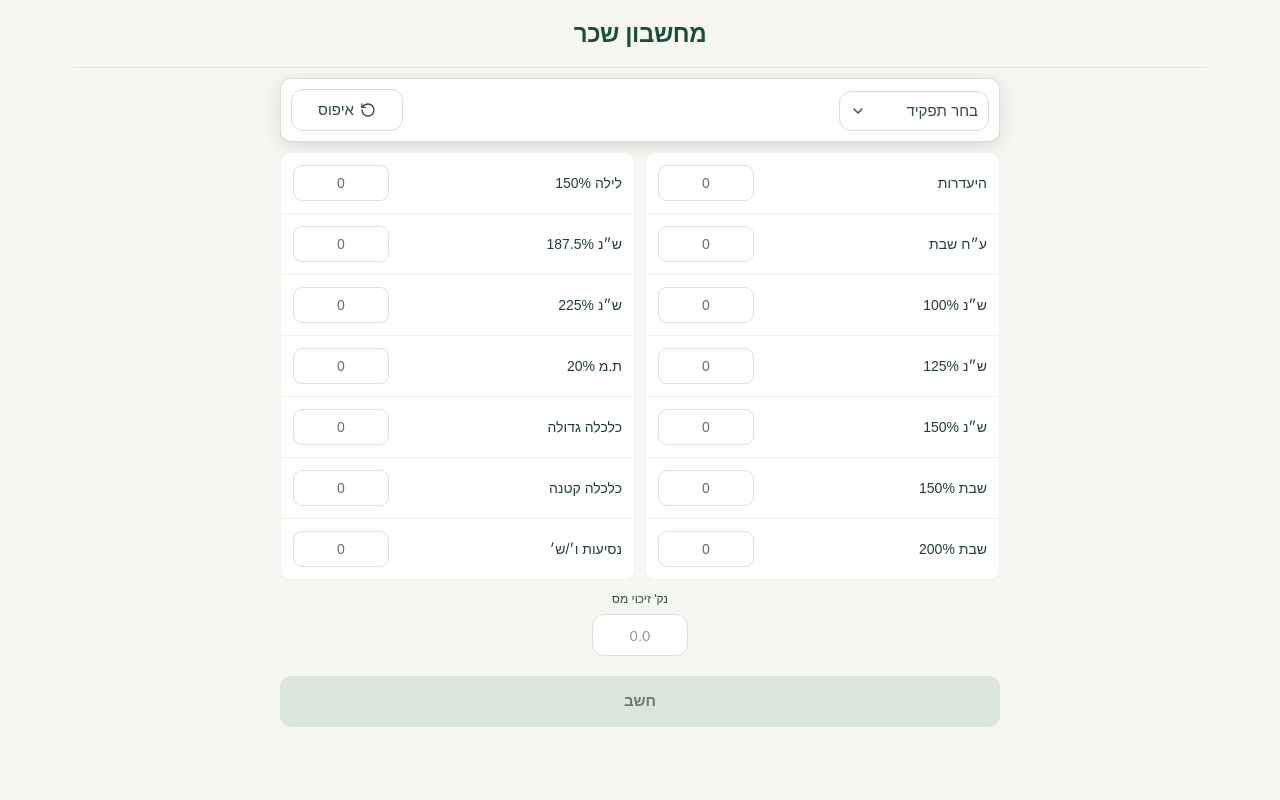
it: accepts zero credits, opens the entire breakdown, and returns to the button on reset
Type "0" into the field labelled "נק' זיכוי מס" at [640, 635], box [592,614,688,656]
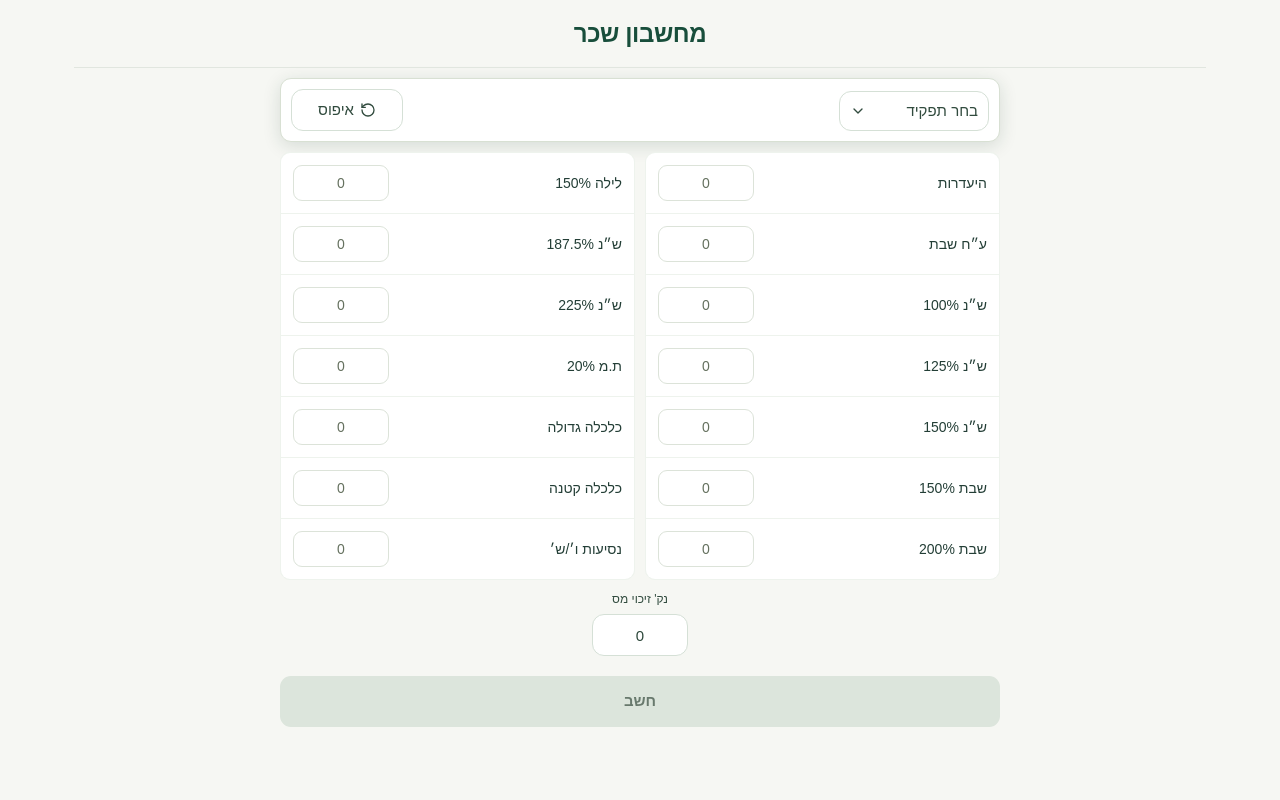
Expected: the button "חשב" is disabled, [280,676,1000,726]
Click the button labelled "בחר תפקיד" at [914, 111], box [839,91,989,131]
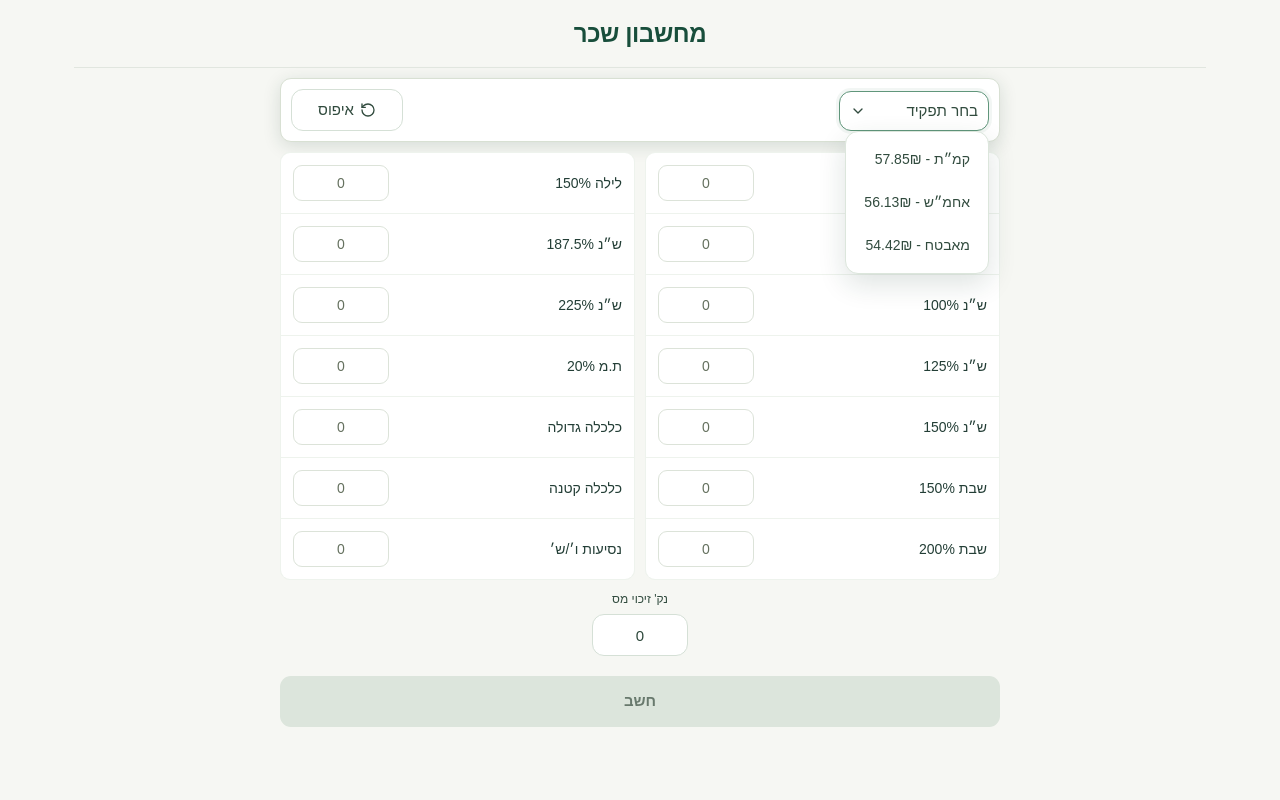
Click the button "קמ״ת - 57.85₪" at [917, 160], box [852,138,982,181]
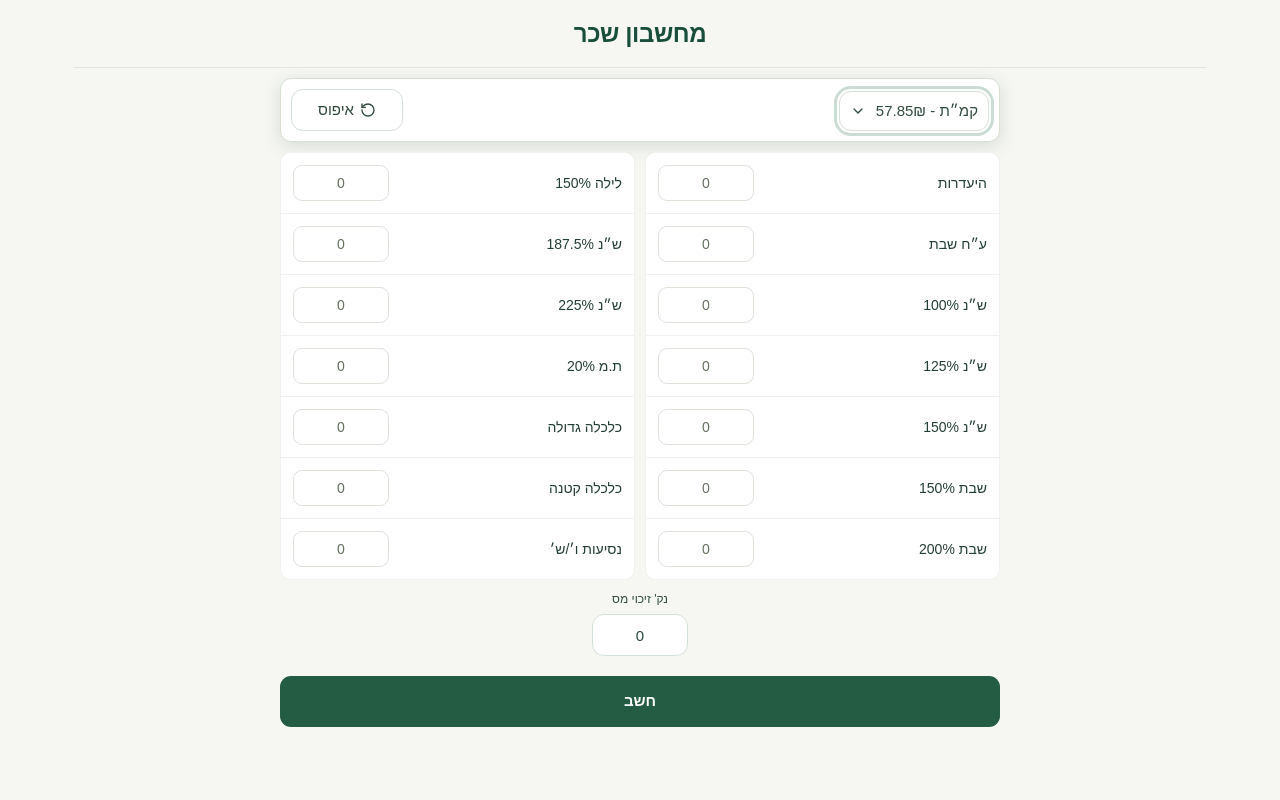
Expected: the button "חשב" is enabled
Click the button "חשב" at [640, 701], box [280,676,1000,726]
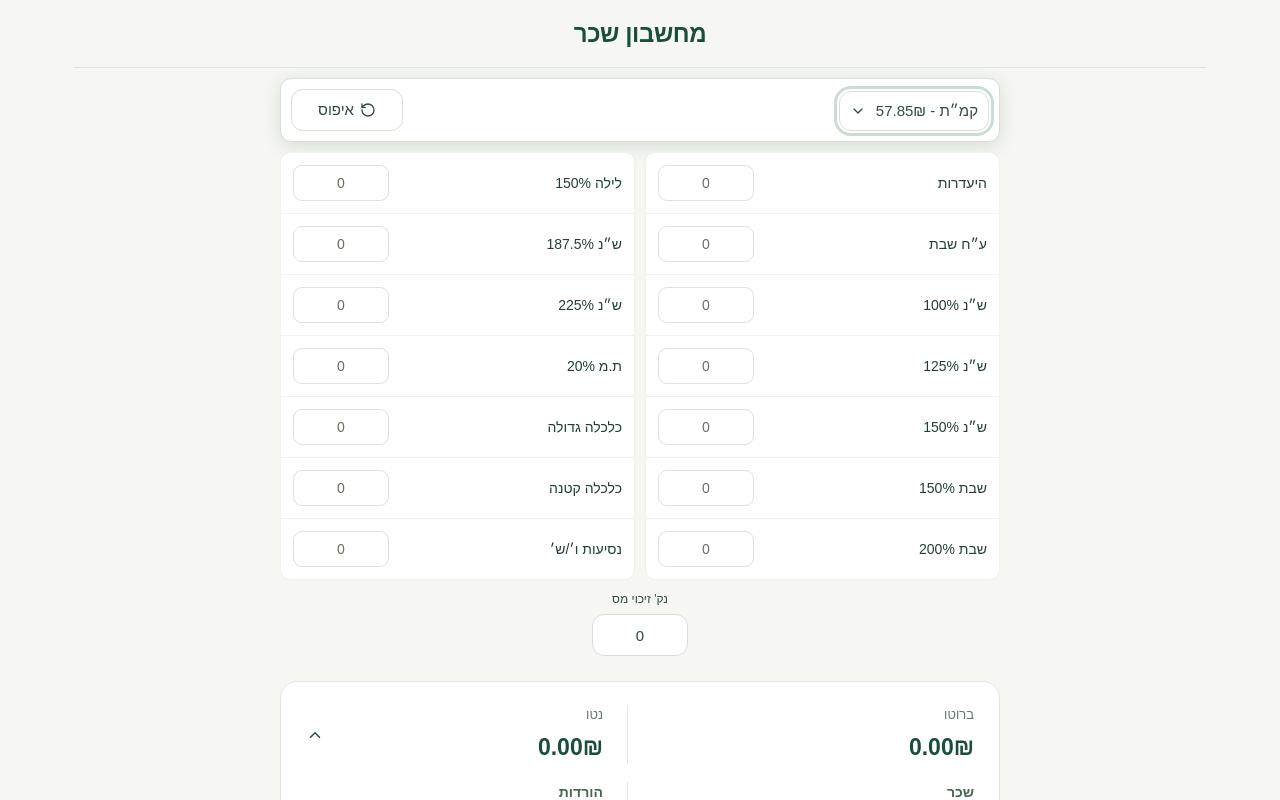
Click the button "איפוס" at [347, 110], box [291,89,403,131]
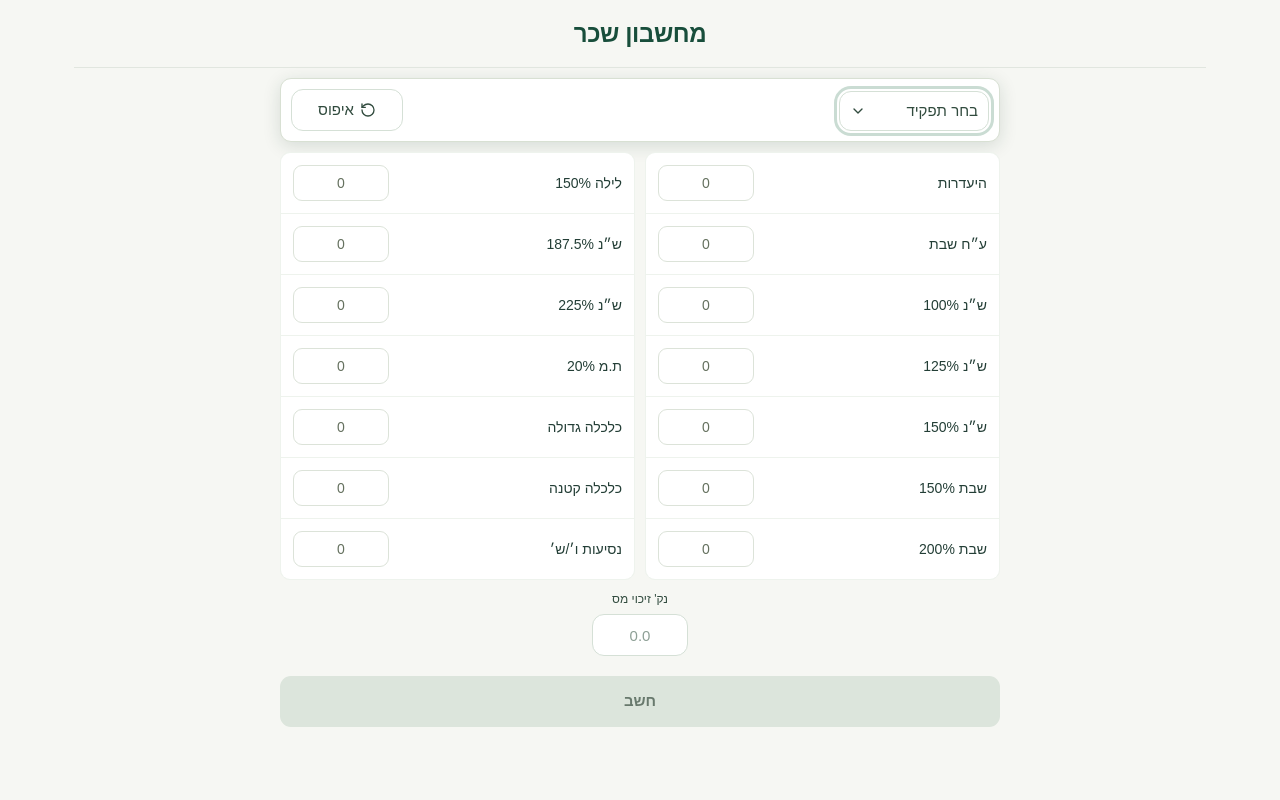
Expected: the button "חשב" is disabled, [280,676,1000,726]
